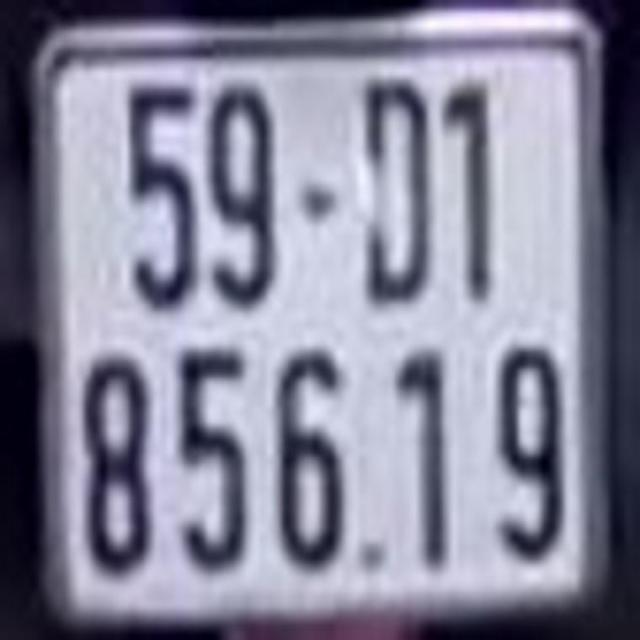1: (443, 84, 506, 295), (395, 347, 453, 570)
5: (127, 84, 195, 310), (180, 352, 248, 567)
6: (274, 352, 346, 568)
8: (78, 356, 148, 575)
9: (205, 84, 272, 303), (501, 352, 558, 556)
D: (360, 86, 428, 300)
